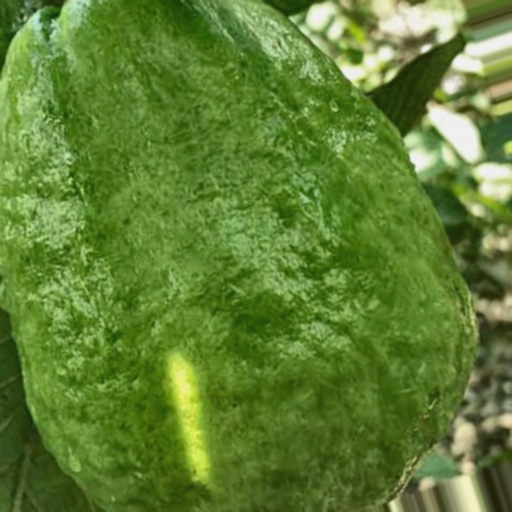guava: (58, 10, 505, 432)
